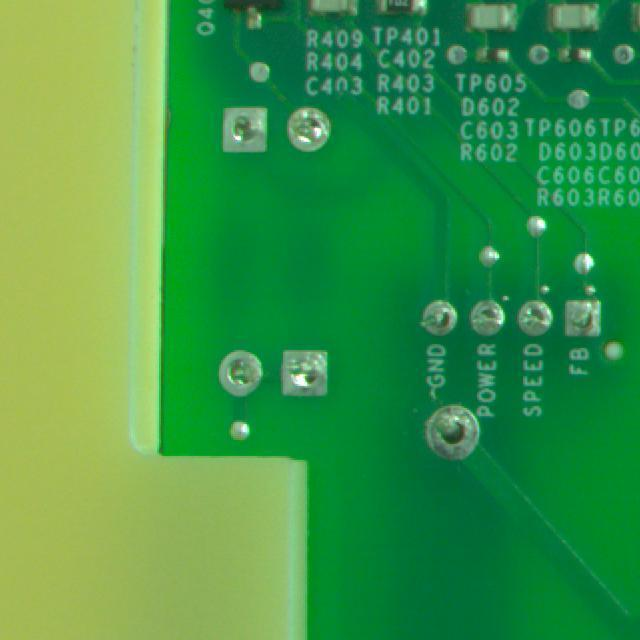Insufficient solder: (408, 399, 491, 468), (272, 345, 341, 419), (554, 287, 624, 345), (209, 338, 267, 405), (212, 102, 274, 164), (407, 290, 462, 345), (287, 98, 334, 162), (463, 288, 511, 350), (524, 294, 558, 346)
